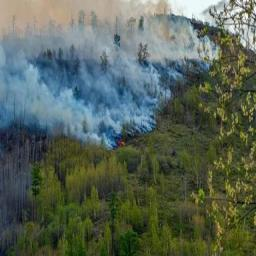Low smoke: (4, 0, 229, 152)
